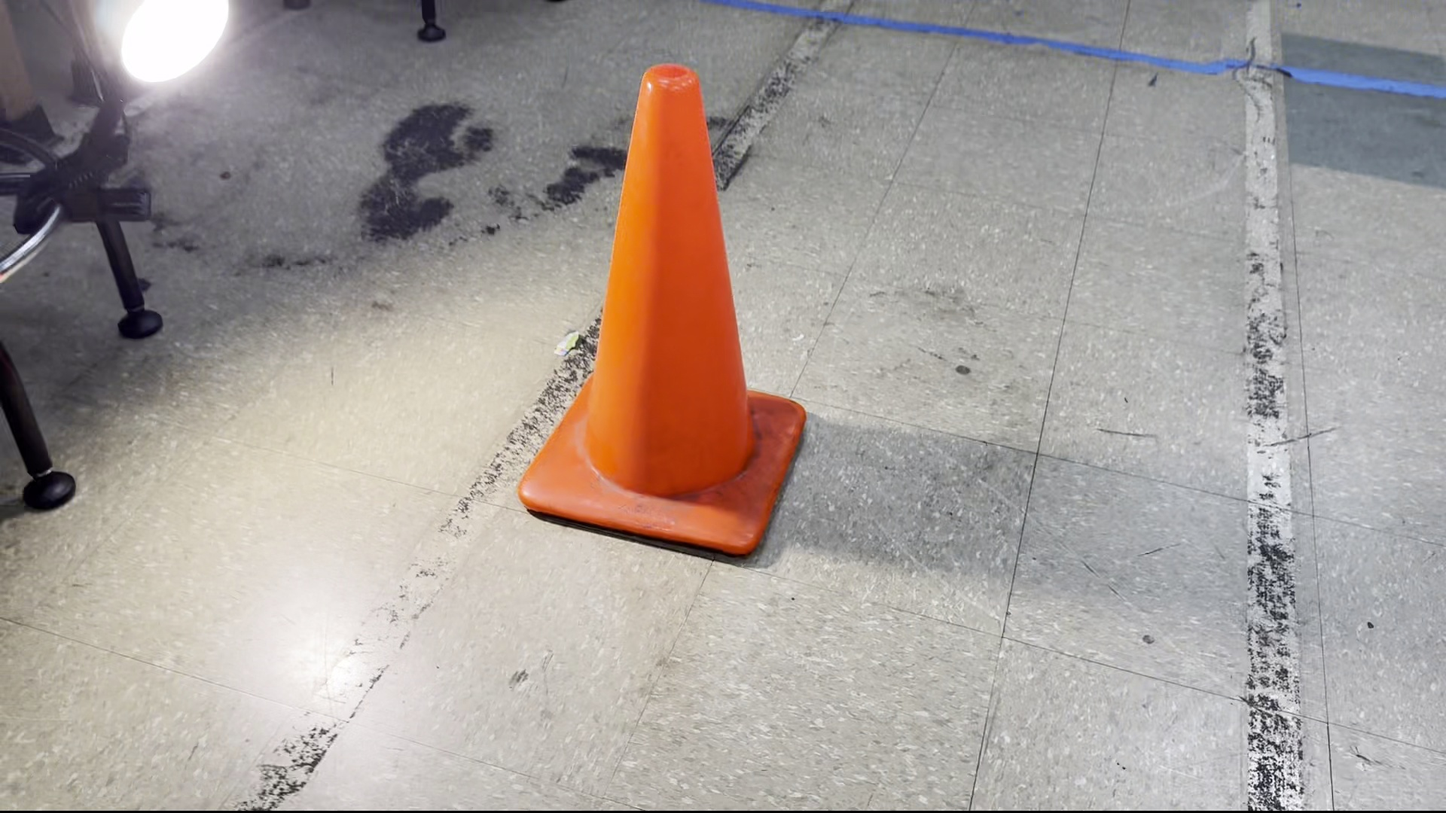traffic_cone: (516, 62, 807, 557)
